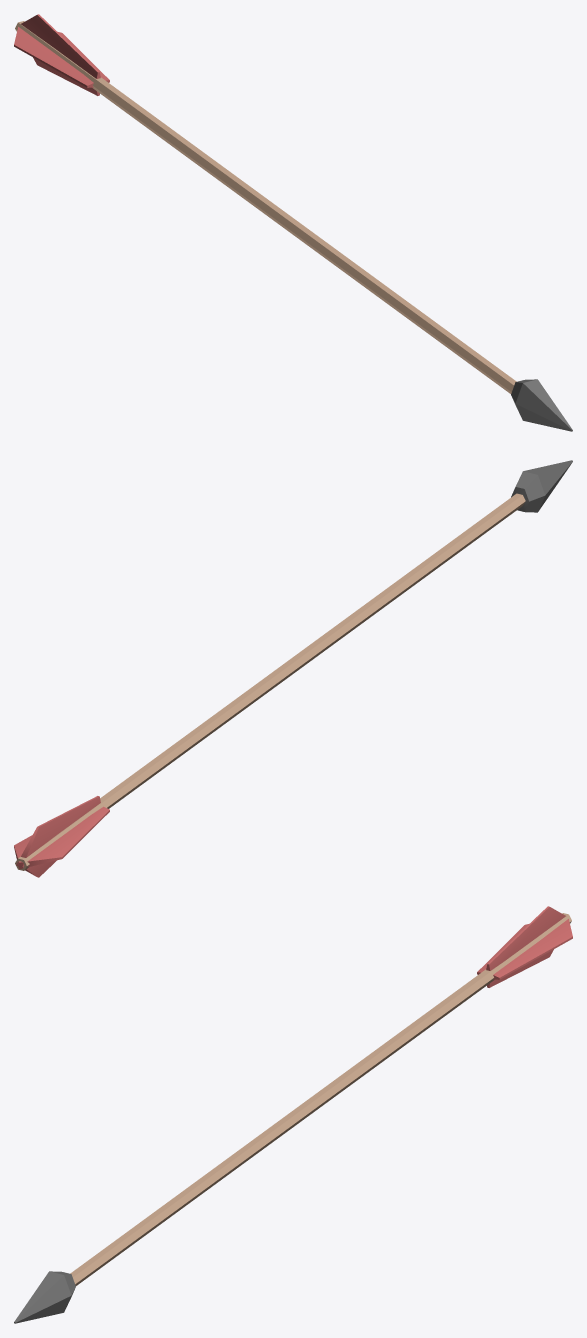
File: flecha.fbx
3 renders of one model, top to bottom at view 1: azimuth 30°, elevation 25°; view 2: azimuth 150°, elevation 25°; view 3: azimuth 330°, elevation 25°, orthographic.
Parts seen in each view (by area): view 1: pCylinder2; view 2: pCylinder2; view 3: pCylinder2.
Boxes of the visible parts, x1,y1,x2,y2 form: pCylinder2: [14, 14, 572, 431]; pCylinder2: [14, 460, 572, 877]; pCylinder2: [14, 906, 572, 1323].
Size of the model in its own units: 4.33 by 4.33 by 85.89.
